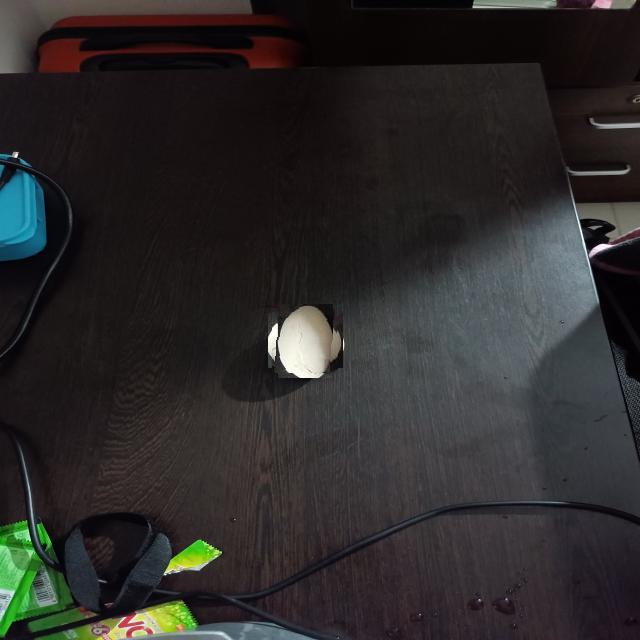biodegradable: (272, 307, 338, 373)
